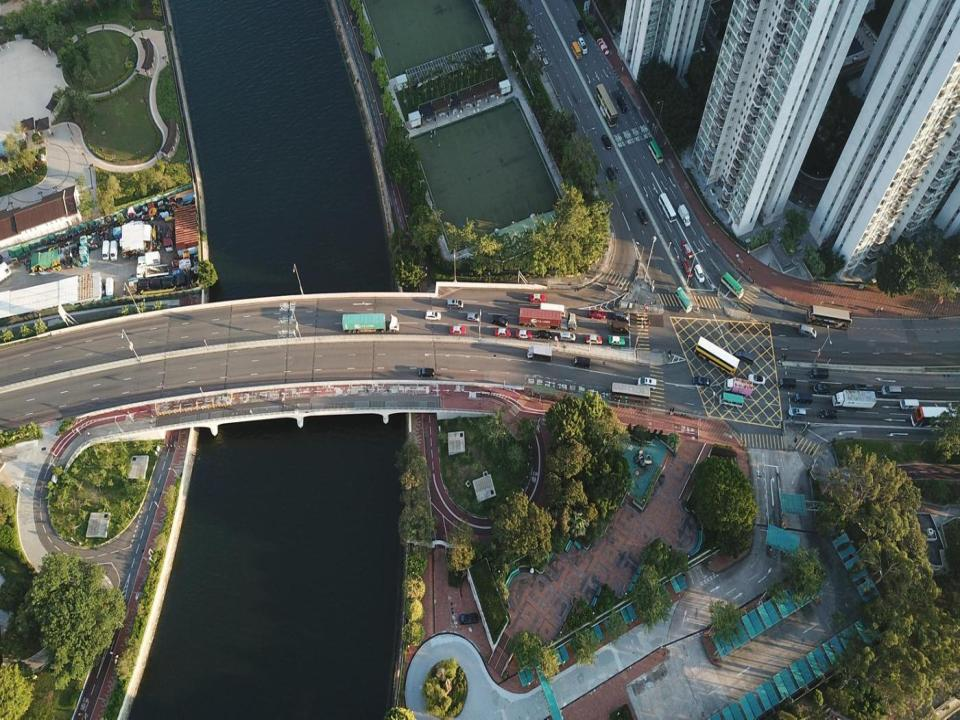bus: (693, 336, 740, 376), (806, 305, 852, 333), (910, 405, 960, 426), (594, 82, 616, 128), (608, 382, 651, 403), (720, 271, 743, 299), (658, 193, 677, 222), (675, 287, 692, 314), (719, 391, 743, 408), (649, 140, 663, 164)
car: (459, 612, 479, 625), (747, 373, 766, 386), (608, 335, 626, 348), (637, 207, 649, 225), (682, 240, 693, 259), (694, 263, 705, 282), (818, 410, 838, 420), (813, 383, 831, 394), (682, 261, 693, 278), (494, 327, 512, 337), (588, 309, 606, 319), (585, 334, 603, 344), (692, 376, 710, 386), (788, 408, 806, 418), (492, 314, 508, 325), (418, 368, 435, 378), (424, 310, 441, 320), (447, 299, 464, 309), (606, 167, 617, 182), (850, 383, 868, 392), (450, 326, 466, 336), (614, 310, 629, 320), (516, 330, 532, 339), (602, 134, 611, 149), (530, 294, 546, 302), (698, 38, 706, 53), (466, 314, 480, 322), (538, 331, 552, 339)
truck: (519, 307, 577, 331), (342, 314, 399, 334), (832, 390, 876, 408), (723, 376, 753, 395), (136, 264, 170, 278), (137, 251, 161, 270), (538, 302, 566, 317), (527, 345, 553, 361), (164, 217, 174, 252), (678, 204, 690, 226), (572, 356, 590, 368)
van: (735, 349, 754, 366), (798, 324, 818, 338), (899, 398, 919, 412), (611, 320, 630, 334), (638, 377, 657, 390), (794, 392, 814, 404), (809, 368, 829, 379), (778, 378, 796, 390), (881, 386, 902, 396), (571, 40, 582, 59), (616, 96, 628, 113), (578, 36, 588, 54), (102, 240, 110, 262), (110, 240, 118, 260), (560, 332, 576, 342), (577, 20, 587, 36)
